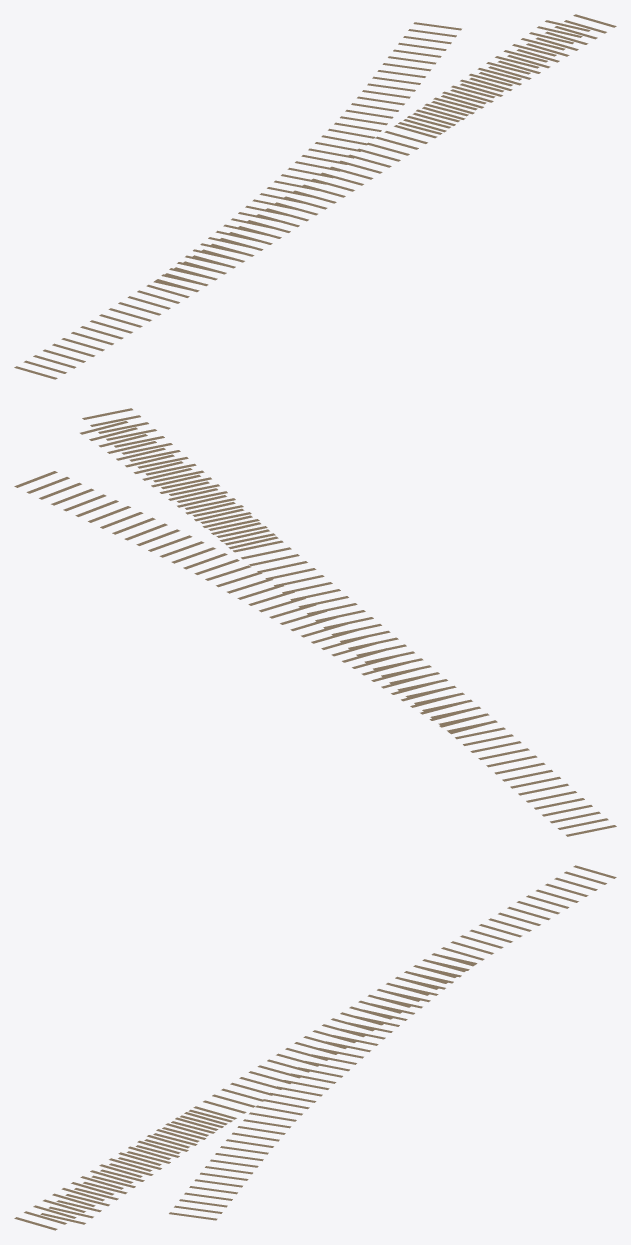
Rendered from c_1627_17831_rail_sleeper.glb.
The picture shows the model from 3 angles, top to bottom: view 1: azimuth 90°, elevation 25°; view 2: azimuth 150°, elevation 25°; view 3: azimuth 270°, elevation 25°; orthographic projection. The views are drawn at different scales.
Parts seen in each view (by area): view 1: geometry_0; view 2: geometry_0; view 3: geometry_0.
Part boxes in pixels (bbox=[...]): geometry_0: bbox=[14, 14, 616, 379]; geometry_0: bbox=[14, 408, 616, 836]; geometry_0: bbox=[14, 865, 616, 1230].
Bounding box in the file's own units: 41.37 × 0.1044 × 28.85.
